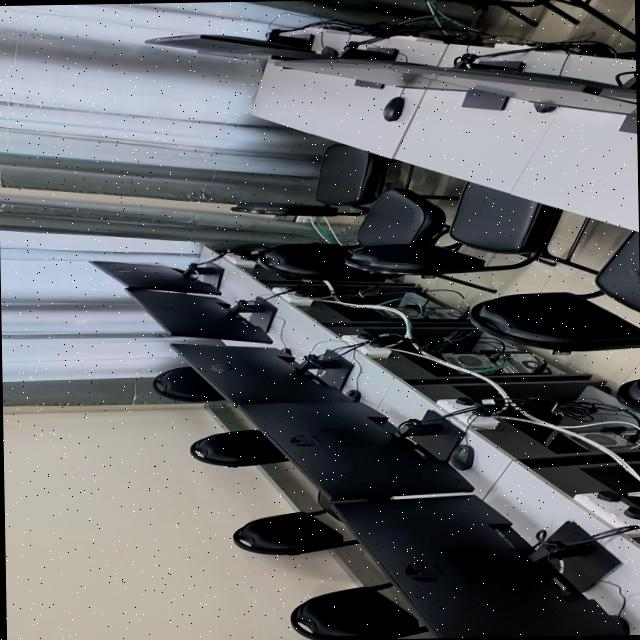Chair: (344, 182, 596, 276), (468, 232, 640, 352), (250, 188, 456, 279), (229, 143, 396, 216), (432, 0, 635, 41), (289, 582, 426, 640), (231, 492, 357, 555), (188, 430, 287, 467), (151, 367, 223, 402), (615, 378, 640, 415)
Cpu: (441, 353, 549, 374), (576, 426, 640, 450), (422, 307, 463, 319), (404, 308, 414, 318)
Monitor: (335, 494, 626, 638), (242, 403, 472, 501), (391, 63, 636, 114), (171, 344, 347, 405), (125, 287, 270, 343), (269, 60, 467, 91), (143, 34, 325, 58), (90, 262, 219, 295), (598, 88, 636, 102)
Mouse: (448, 444, 472, 470), (381, 97, 403, 121), (529, 101, 555, 113), (343, 389, 359, 402), (319, 46, 337, 57)
